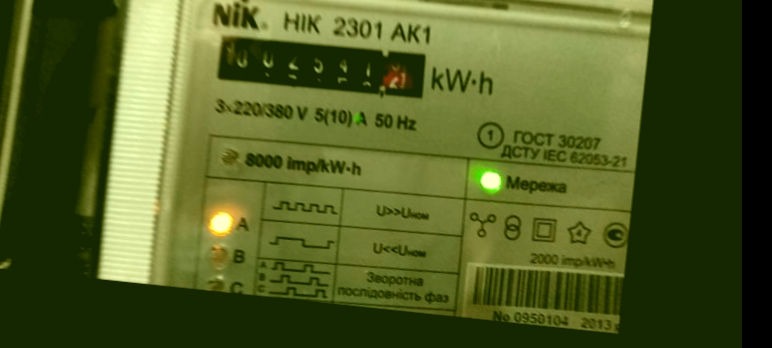0: (232, 43, 253, 71), (260, 43, 277, 72)
1: (360, 52, 376, 80)
2: (284, 46, 303, 72)
4: (336, 50, 352, 74)
5: (309, 47, 330, 77)
6: (386, 71, 403, 91)
screen: (204, 19, 443, 114)
